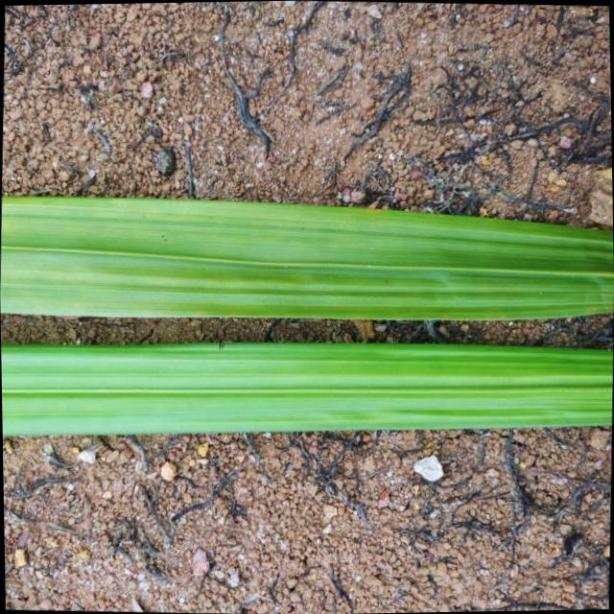nitrogen: (0, 190, 614, 325), (0, 333, 614, 435)
